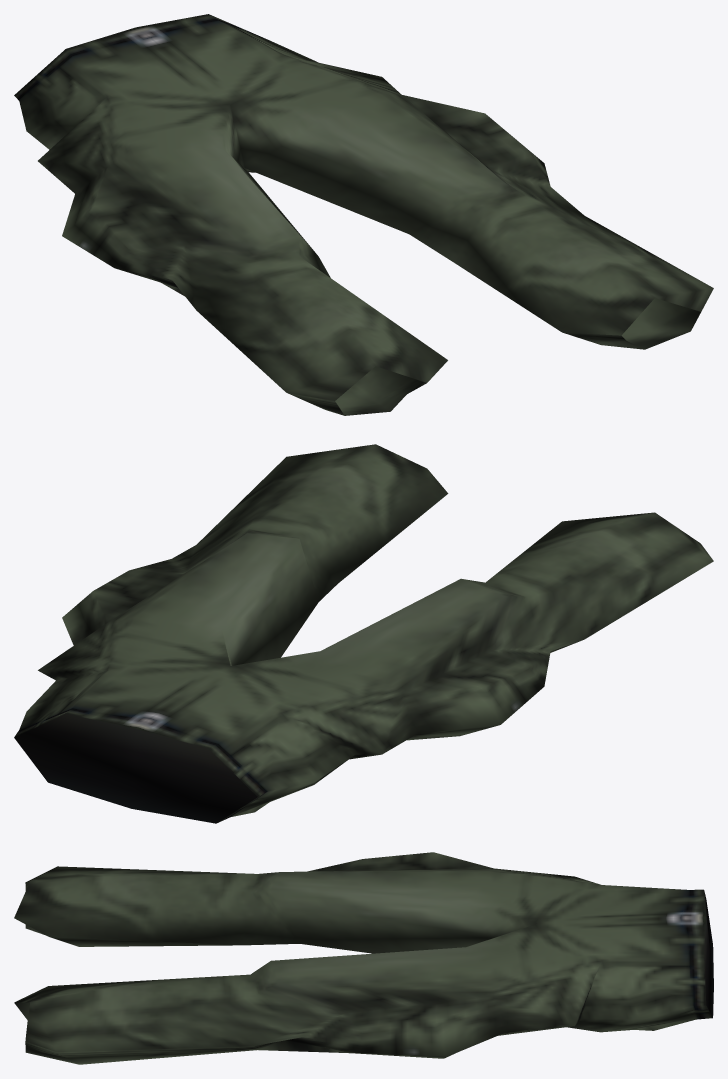
File: Stani_3_Ground.fbx
The picture shows the model from 3 angles, top to bottom: view 1: azimuth 30°, elevation 25°; view 2: azimuth 150°, elevation 25°; view 3: azimuth 270°, elevation 25°; orthographic projection. The views are drawn at different scales.
Parts seen in each view (by area): view 1: Body.022; view 2: Body.022; view 3: Body.022.
Part boxes in pixels (x1,y1,x2,y2): Body.022: (14, 14, 713, 415); Body.022: (14, 444, 713, 823); Body.022: (14, 852, 713, 1064).
Bounding box in the file's own units: 0.2989 × 0.059 × 0.4633.
